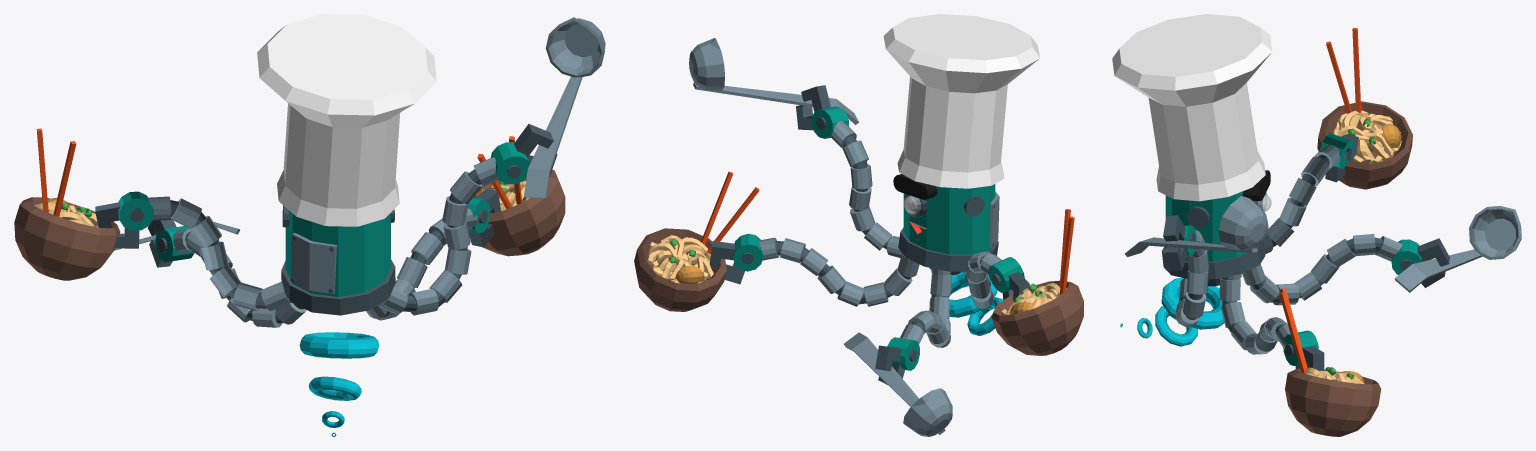
File: scene_HmCySmITp7.glb
The picture shows the model from 3 angles, left to right: view 1: azimuth 30°, elevation 25°; view 2: azimuth 150°, elevation 25°; view 3: azimuth 270°, elevation 25°; orthographic projection. The views are drawn at different scales.
Parts seen in each view (by area): view 1: group1650877276, group228961574, group1519986964, group1614581683, group424474193, group704400519, group942683874, group1023678068, group1727322282, group299047146, group2082854193, group1663364572 (+16 smaller); view 2: group1650877276, group1614581683, group228961574, group1519986964, group424474193, group1545102574, group704400519, group942683874, group253231867, group1023678068, group299047146, group943553713 (+17 smaller); view 3: group1650877276, group228961574, group1614581683, group424474193, group1545102574, group704400519, group1519986964, group942683874, group253231867, group299047146, group1023678068, group1663364572 (+15 smaller).
Boxes of the visible parts, x1,y1,x2,y2 form: group1650877276: [257, 14, 436, 226]; group228961574: [14, 128, 120, 280]; group1519986964: [285, 210, 390, 296]; group1614581683: [474, 136, 565, 256]; group424474193: [148, 219, 306, 327]; group704400519: [545, 17, 605, 77]; group942683874: [281, 259, 395, 315]; group1023678068: [524, 65, 584, 198]; group1727322282: [290, 233, 336, 293]; group299047146: [299, 332, 379, 358]; group2082854193: [490, 142, 529, 184]; group1663364572: [308, 376, 361, 400]; group1650877276: [883, 14, 1039, 188]; group1614581683: [634, 171, 759, 311]; group228961574: [991, 209, 1083, 355]; group1519986964: [903, 184, 995, 254]; group424474193: [875, 268, 951, 385]; group1545102574: [903, 388, 952, 436]; group704400519: [689, 38, 724, 90]; group942683874: [898, 227, 998, 271]; group253231867: [844, 332, 945, 434]; group1023678068: [693, 83, 858, 124]; group299047146: [931, 271, 997, 317]; group943553713: [733, 233, 763, 271]; group1650877276: [1112, 14, 1272, 201]; group228961574: [1317, 28, 1412, 189]; group1614581683: [1279, 288, 1381, 436]; group424474193: [1242, 234, 1449, 305]; group1545102574: [1469, 206, 1521, 259]; group704400519: [1218, 196, 1268, 250]; group1519986964: [1165, 191, 1246, 261]; group942683874: [1161, 241, 1265, 279]; group253231867: [1394, 249, 1486, 292]; group299047146: [1161, 277, 1224, 329]; group1023678068: [1125, 237, 1257, 256]; group1663364572: [1155, 306, 1197, 346].
Bounding box in the file's own units: 2.56 × 1.67 × 1.95.
